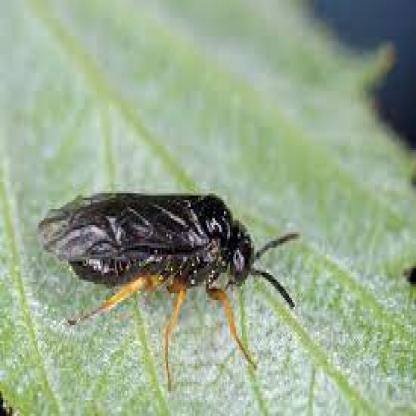sawfly: (38, 182, 302, 393)
